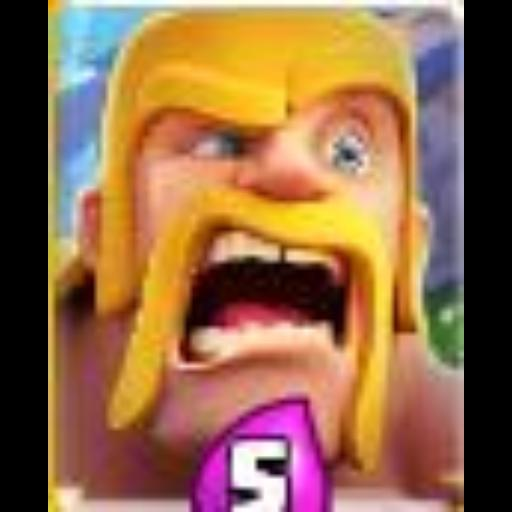barbarians: (48, 0, 464, 512)
